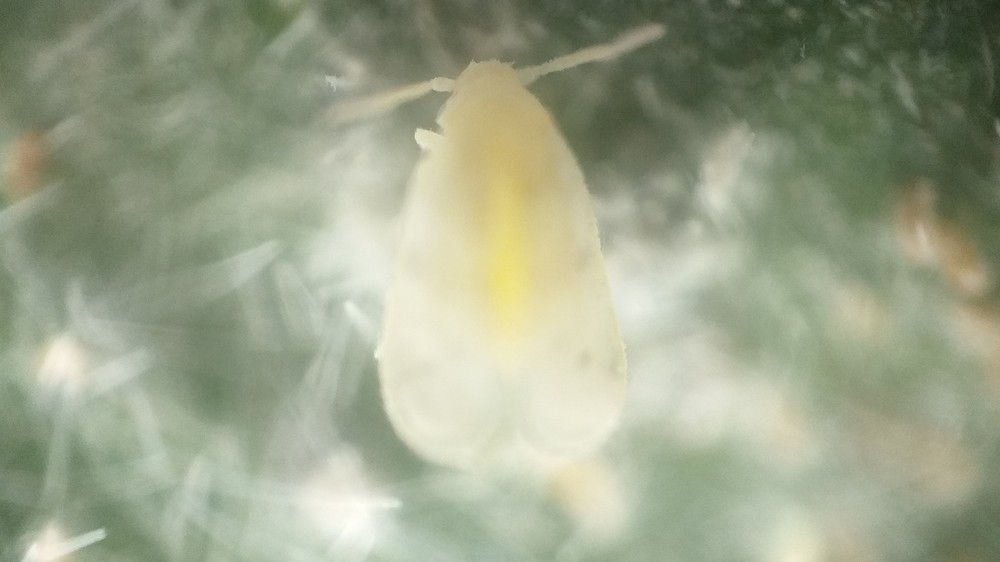Mosca Blanca: (301, 22, 709, 494)
